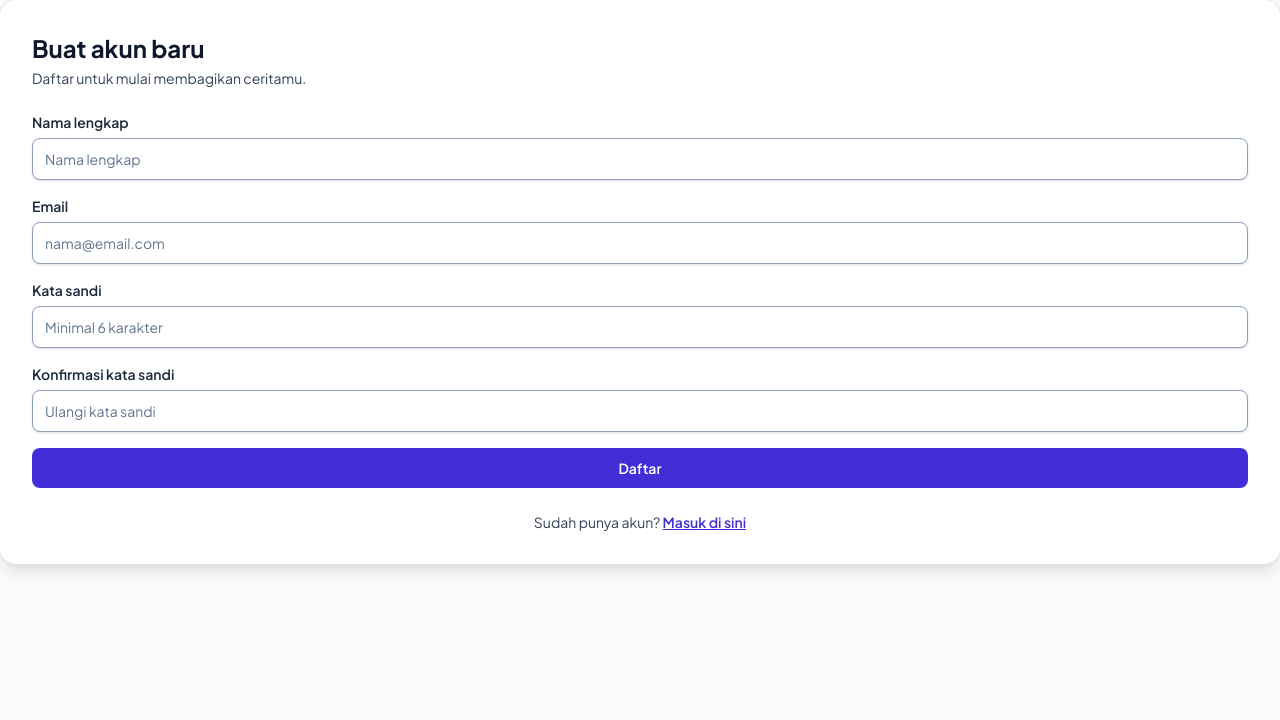
Scenario: RegisterPage › should show validation errors when submitting empty form
Click the button "Daftar" at [640, 468], box [32,448,1248,488]
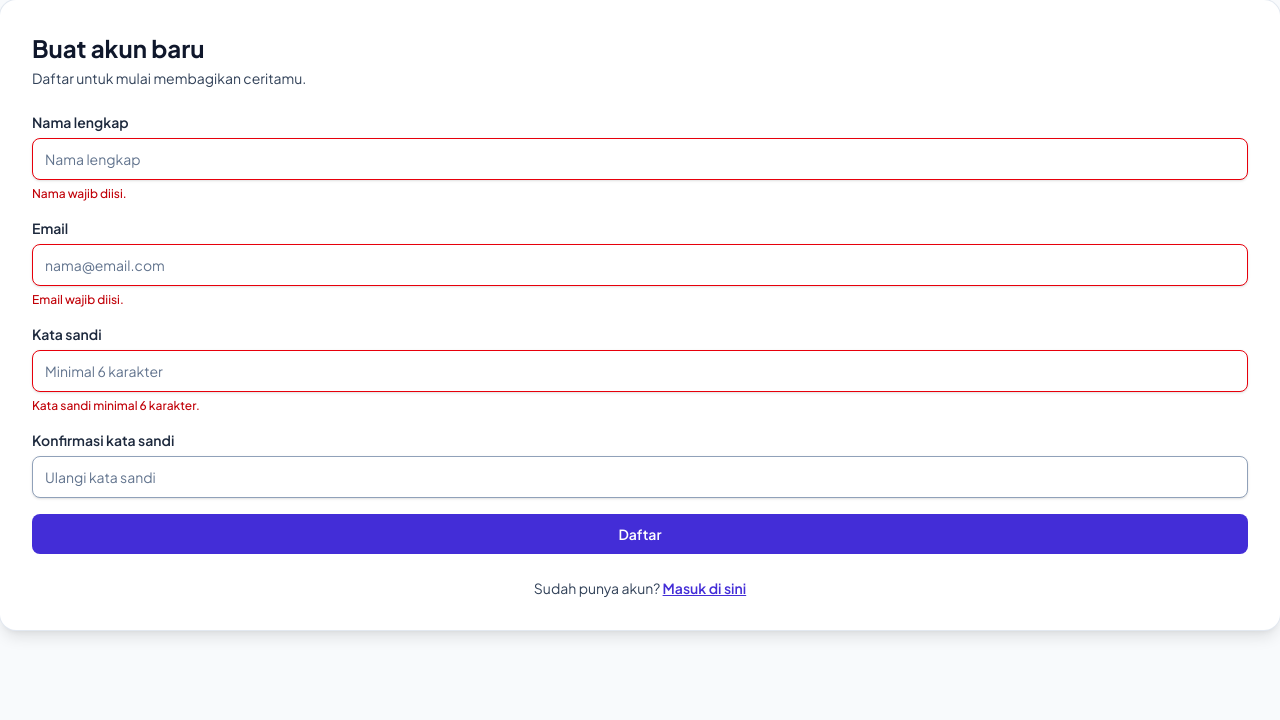
Check: the text "Nama wajib diisi." is shown, box [32,186,127,201]
Check: the text "Email wajib diisi." is shown, box [32,292,124,307]
Check: the text "Kata sandi minimal 6 karakter." is shown, box [32,398,200,413]
